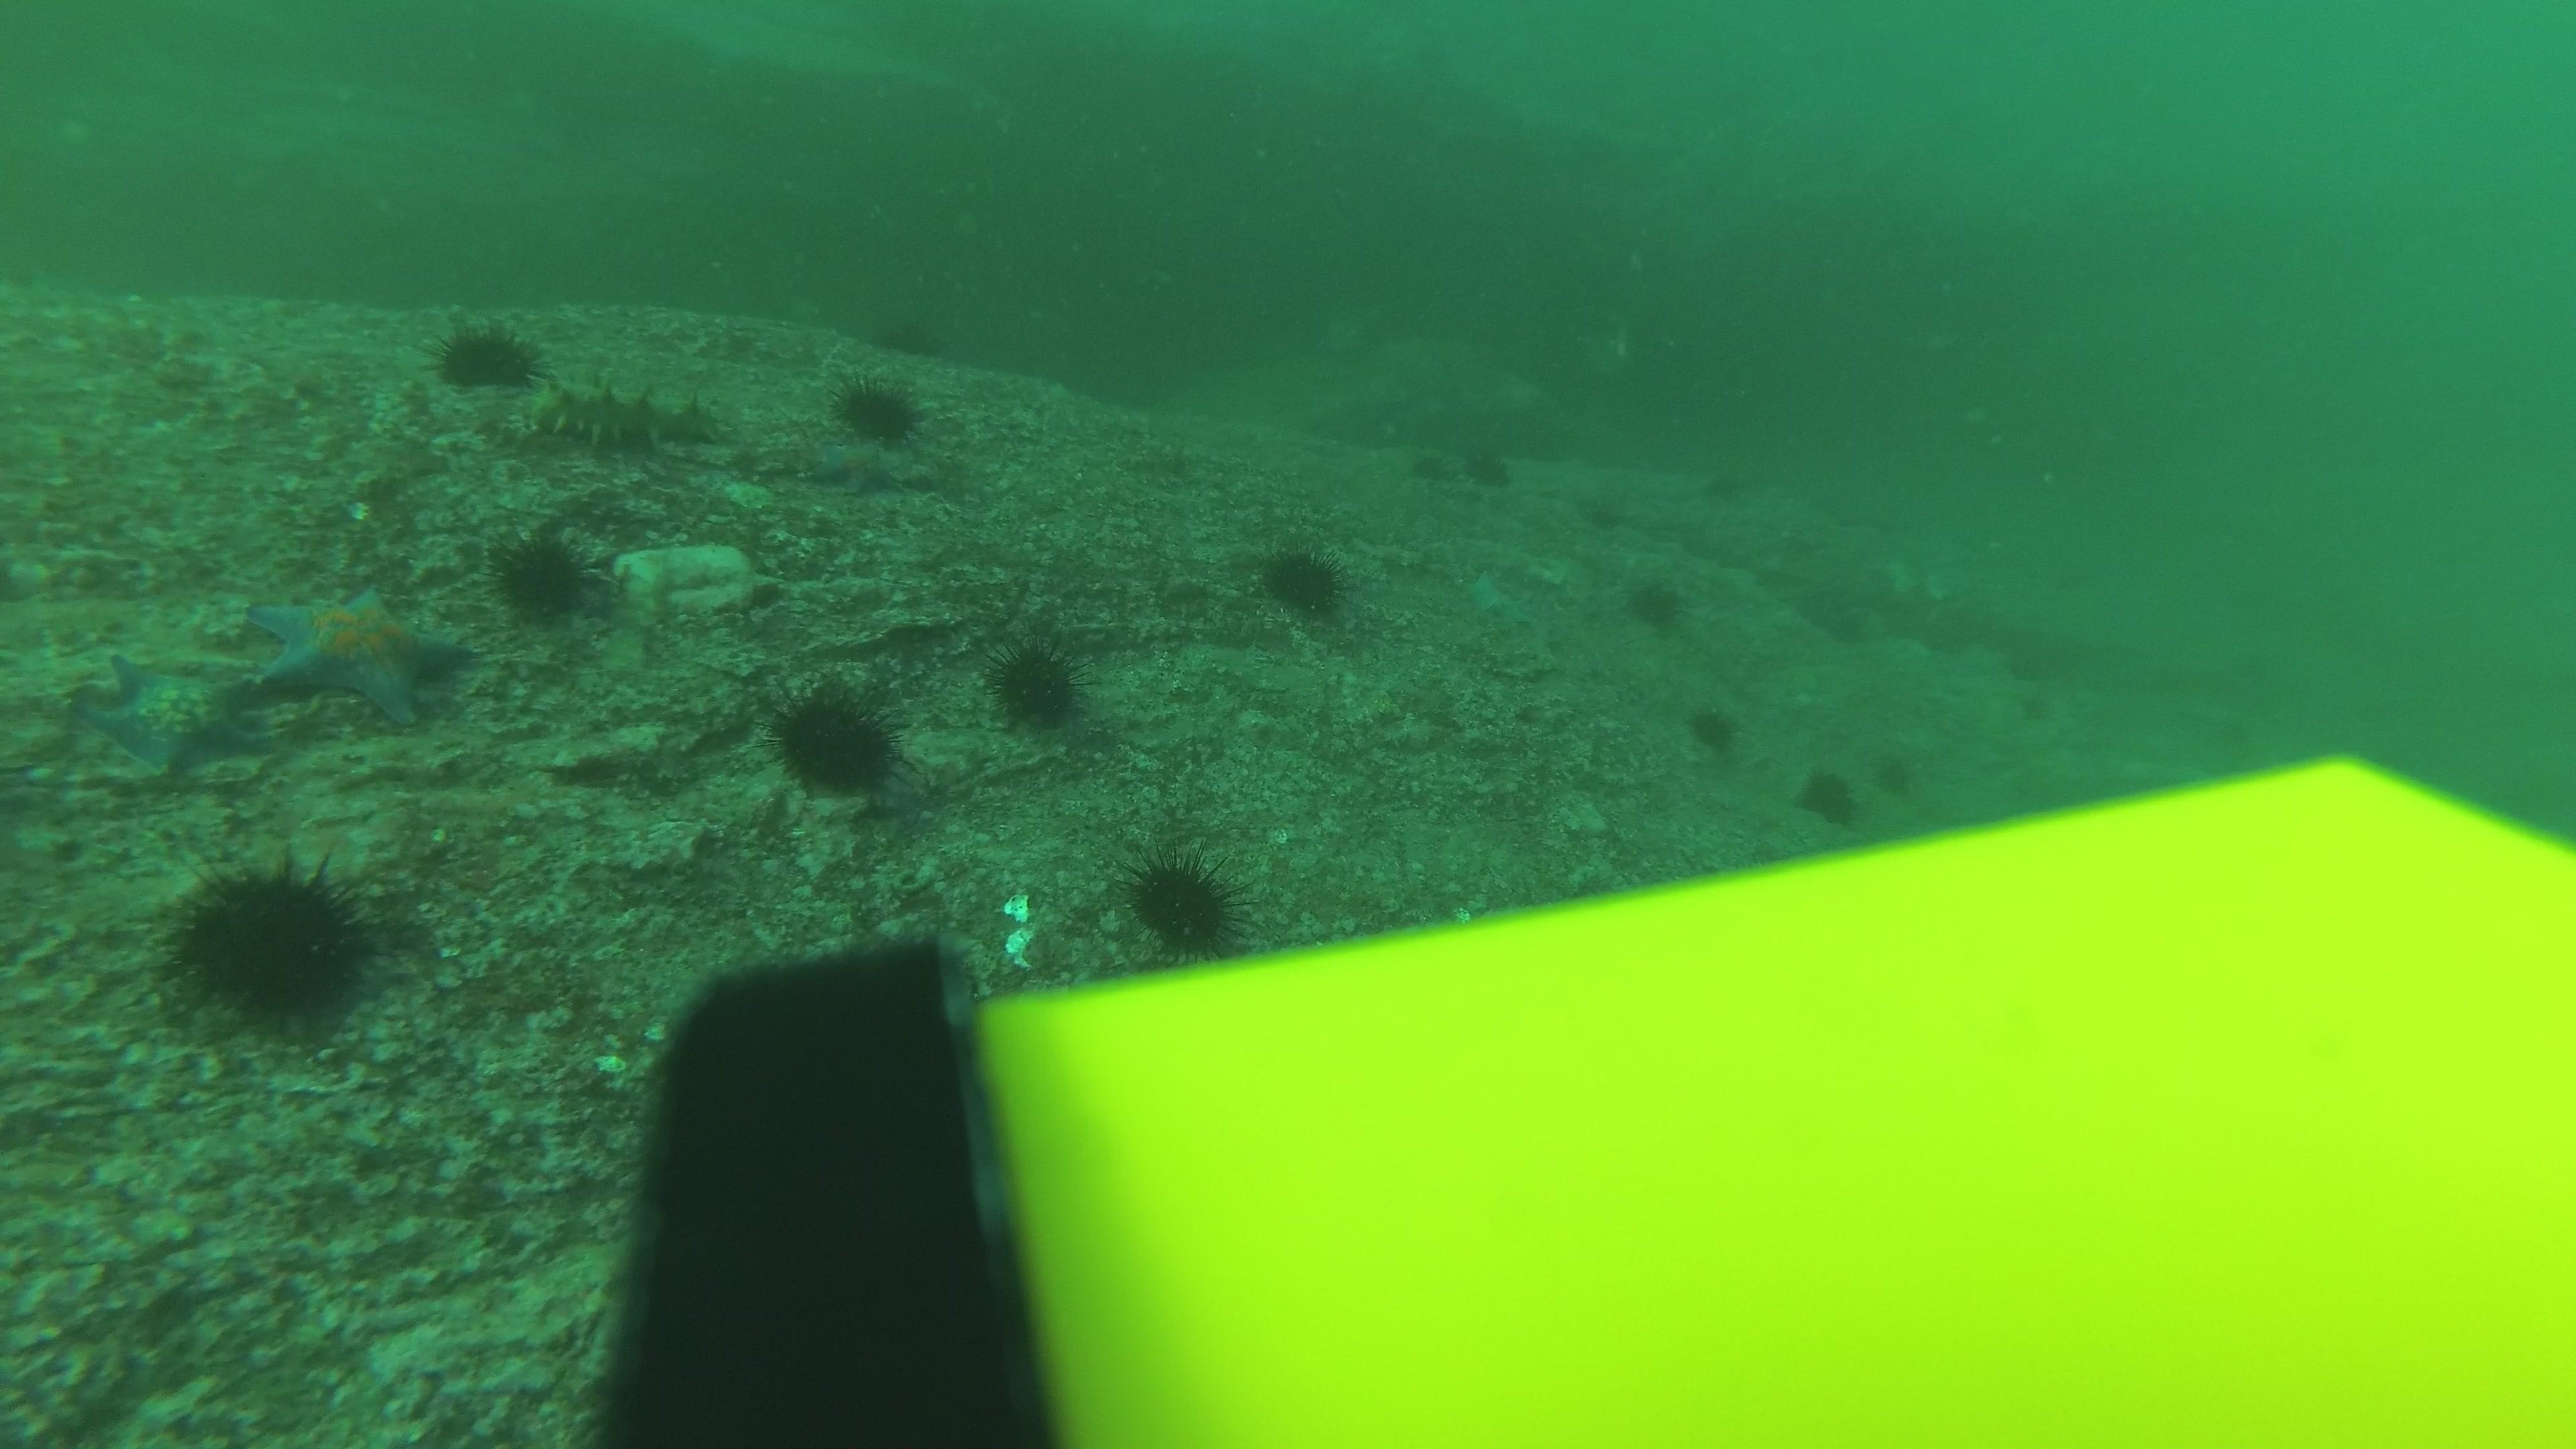echinus: (159, 851, 380, 1033), (768, 679, 902, 800), (1123, 849, 1247, 959), (488, 524, 603, 625), (985, 635, 1088, 732), (433, 317, 541, 395), (1254, 538, 1350, 621), (832, 370, 925, 448), (1622, 570, 1690, 633), (1796, 763, 1863, 826), (1686, 699, 1741, 755), (1460, 439, 1514, 492), (1868, 743, 1914, 793), (2013, 692, 2047, 725), (1591, 499, 1624, 533), (1414, 449, 1447, 481), (1704, 474, 1737, 506)
holothurian: (518, 375, 722, 460)
starfish: (244, 575, 476, 727), (74, 646, 272, 782), (801, 439, 908, 497), (1460, 564, 1536, 632)
